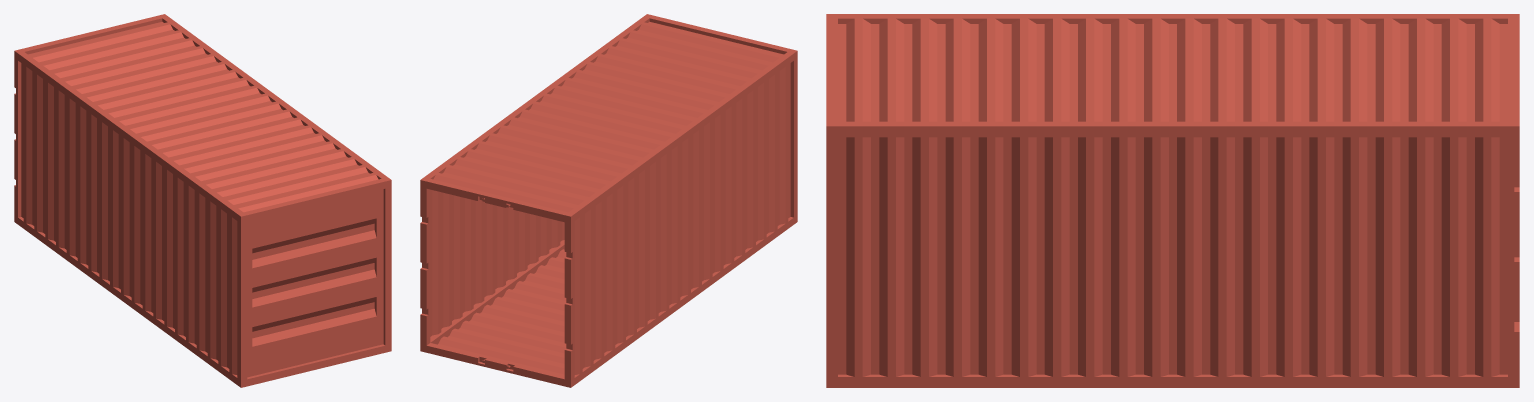
File: red_container_box.dae
3 views of the same model, side by side, from view 1: azimuth 30°, elevation 25°; view 2: azimuth 150°, elevation 25°; view 3: azimuth 270°, elevation 25° (orthographic). The views are drawn at different scales.
Parts seen in each view (by area): view 1: container; view 2: container; view 3: container.
Boxes of the visible parts, box(x1,y1,x2,y2) form: container: box(14, 14, 391, 387); container: box(420, 14, 797, 387); container: box(826, 14, 1519, 387).
Size of the model in its own units: 2.3 by 6 by 2.5.
